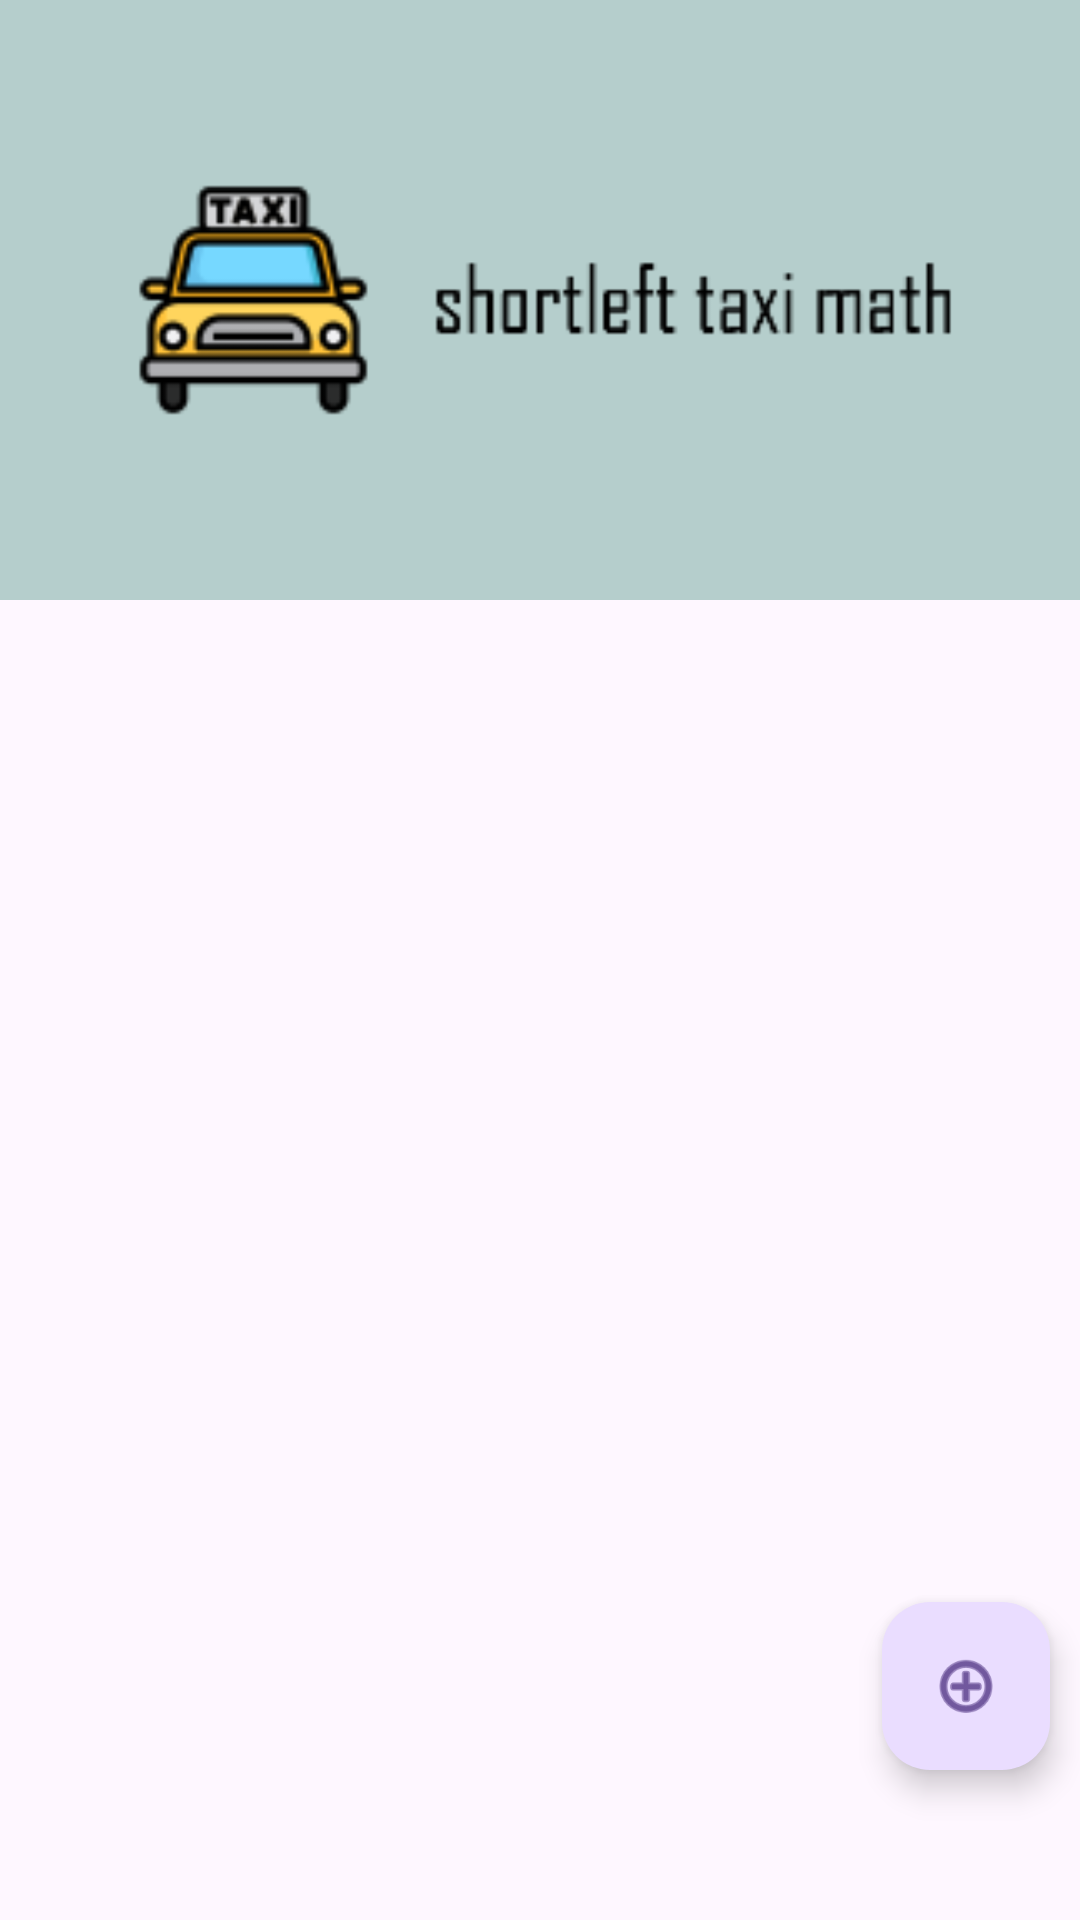

Screen size 1080 x 1920. Icon name, then its center in pixels as (x=x, y=y):
add: (x=966, y=1686)
